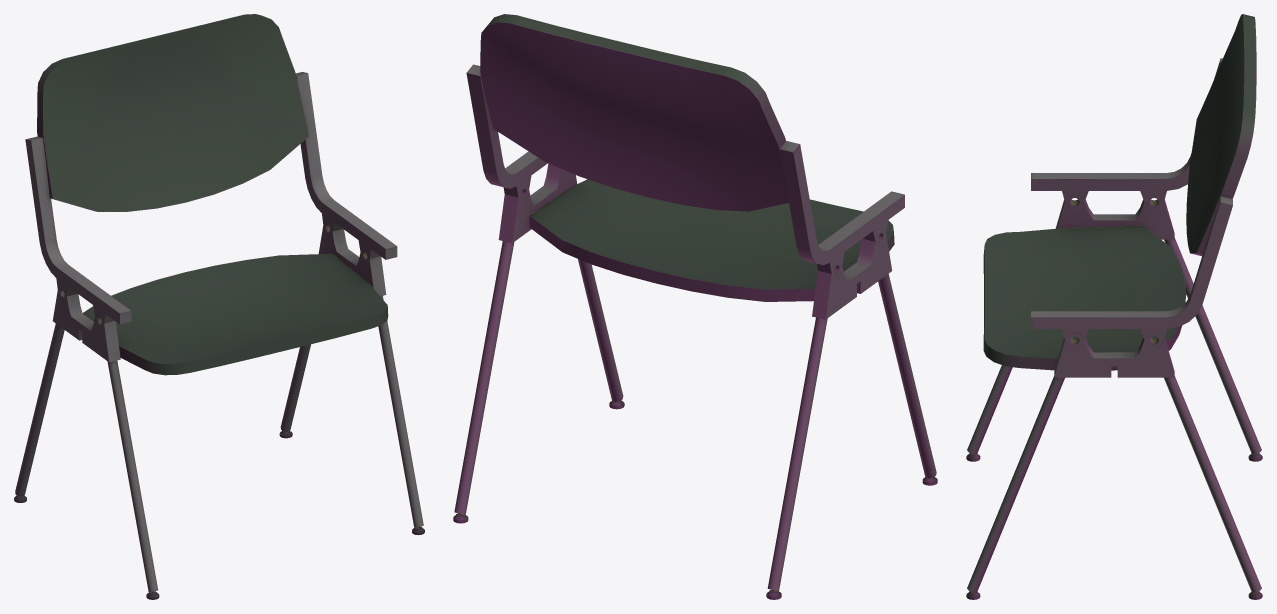
File: Chair.fbx
3 renders of one model, left to right at view 1: azimuth 30°, elevation 25°; view 2: azimuth 150°, elevation 25°; view 3: azimuth 270°, elevation 25°, orthographic. The views are drawn at different scales.
Parts seen in each view (by area): view 1: Chair; view 2: Chair; view 3: Chair.
Part boxes in pixels (x1,y1,x2,y2): Chair: [14, 14, 424, 599]; Chair: [453, 14, 937, 599]; Chair: [966, 14, 1262, 599].
Bounding box in the file's own units: 68.36 × 102 × 59.3.
